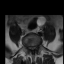CCS_severe_stenosis: (31, 45, 33, 51)
LFS_severe_stenosis: (35, 43, 37, 48)
LLS_severe_stenosis: (33, 45, 35, 50)
RFS_severe_stenosis: (27, 43, 29, 50)
RLS_severe_stenosis: (29, 44, 31, 51)
